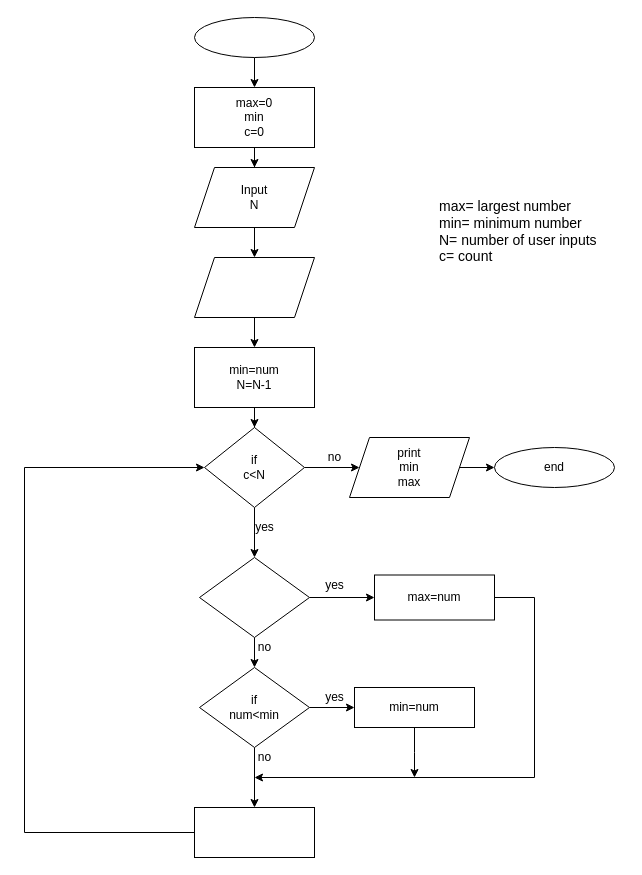
The diagram is 642 pixels wide and 875 high, and some of its shapes have lost their labels. Each missing label, with the box of its shape:
c=c+1: (194, 806, 314, 858)
if num>max: (198, 556, 310, 638)
Input num: (194, 256, 314, 318)
start: (194, 16, 314, 58)
